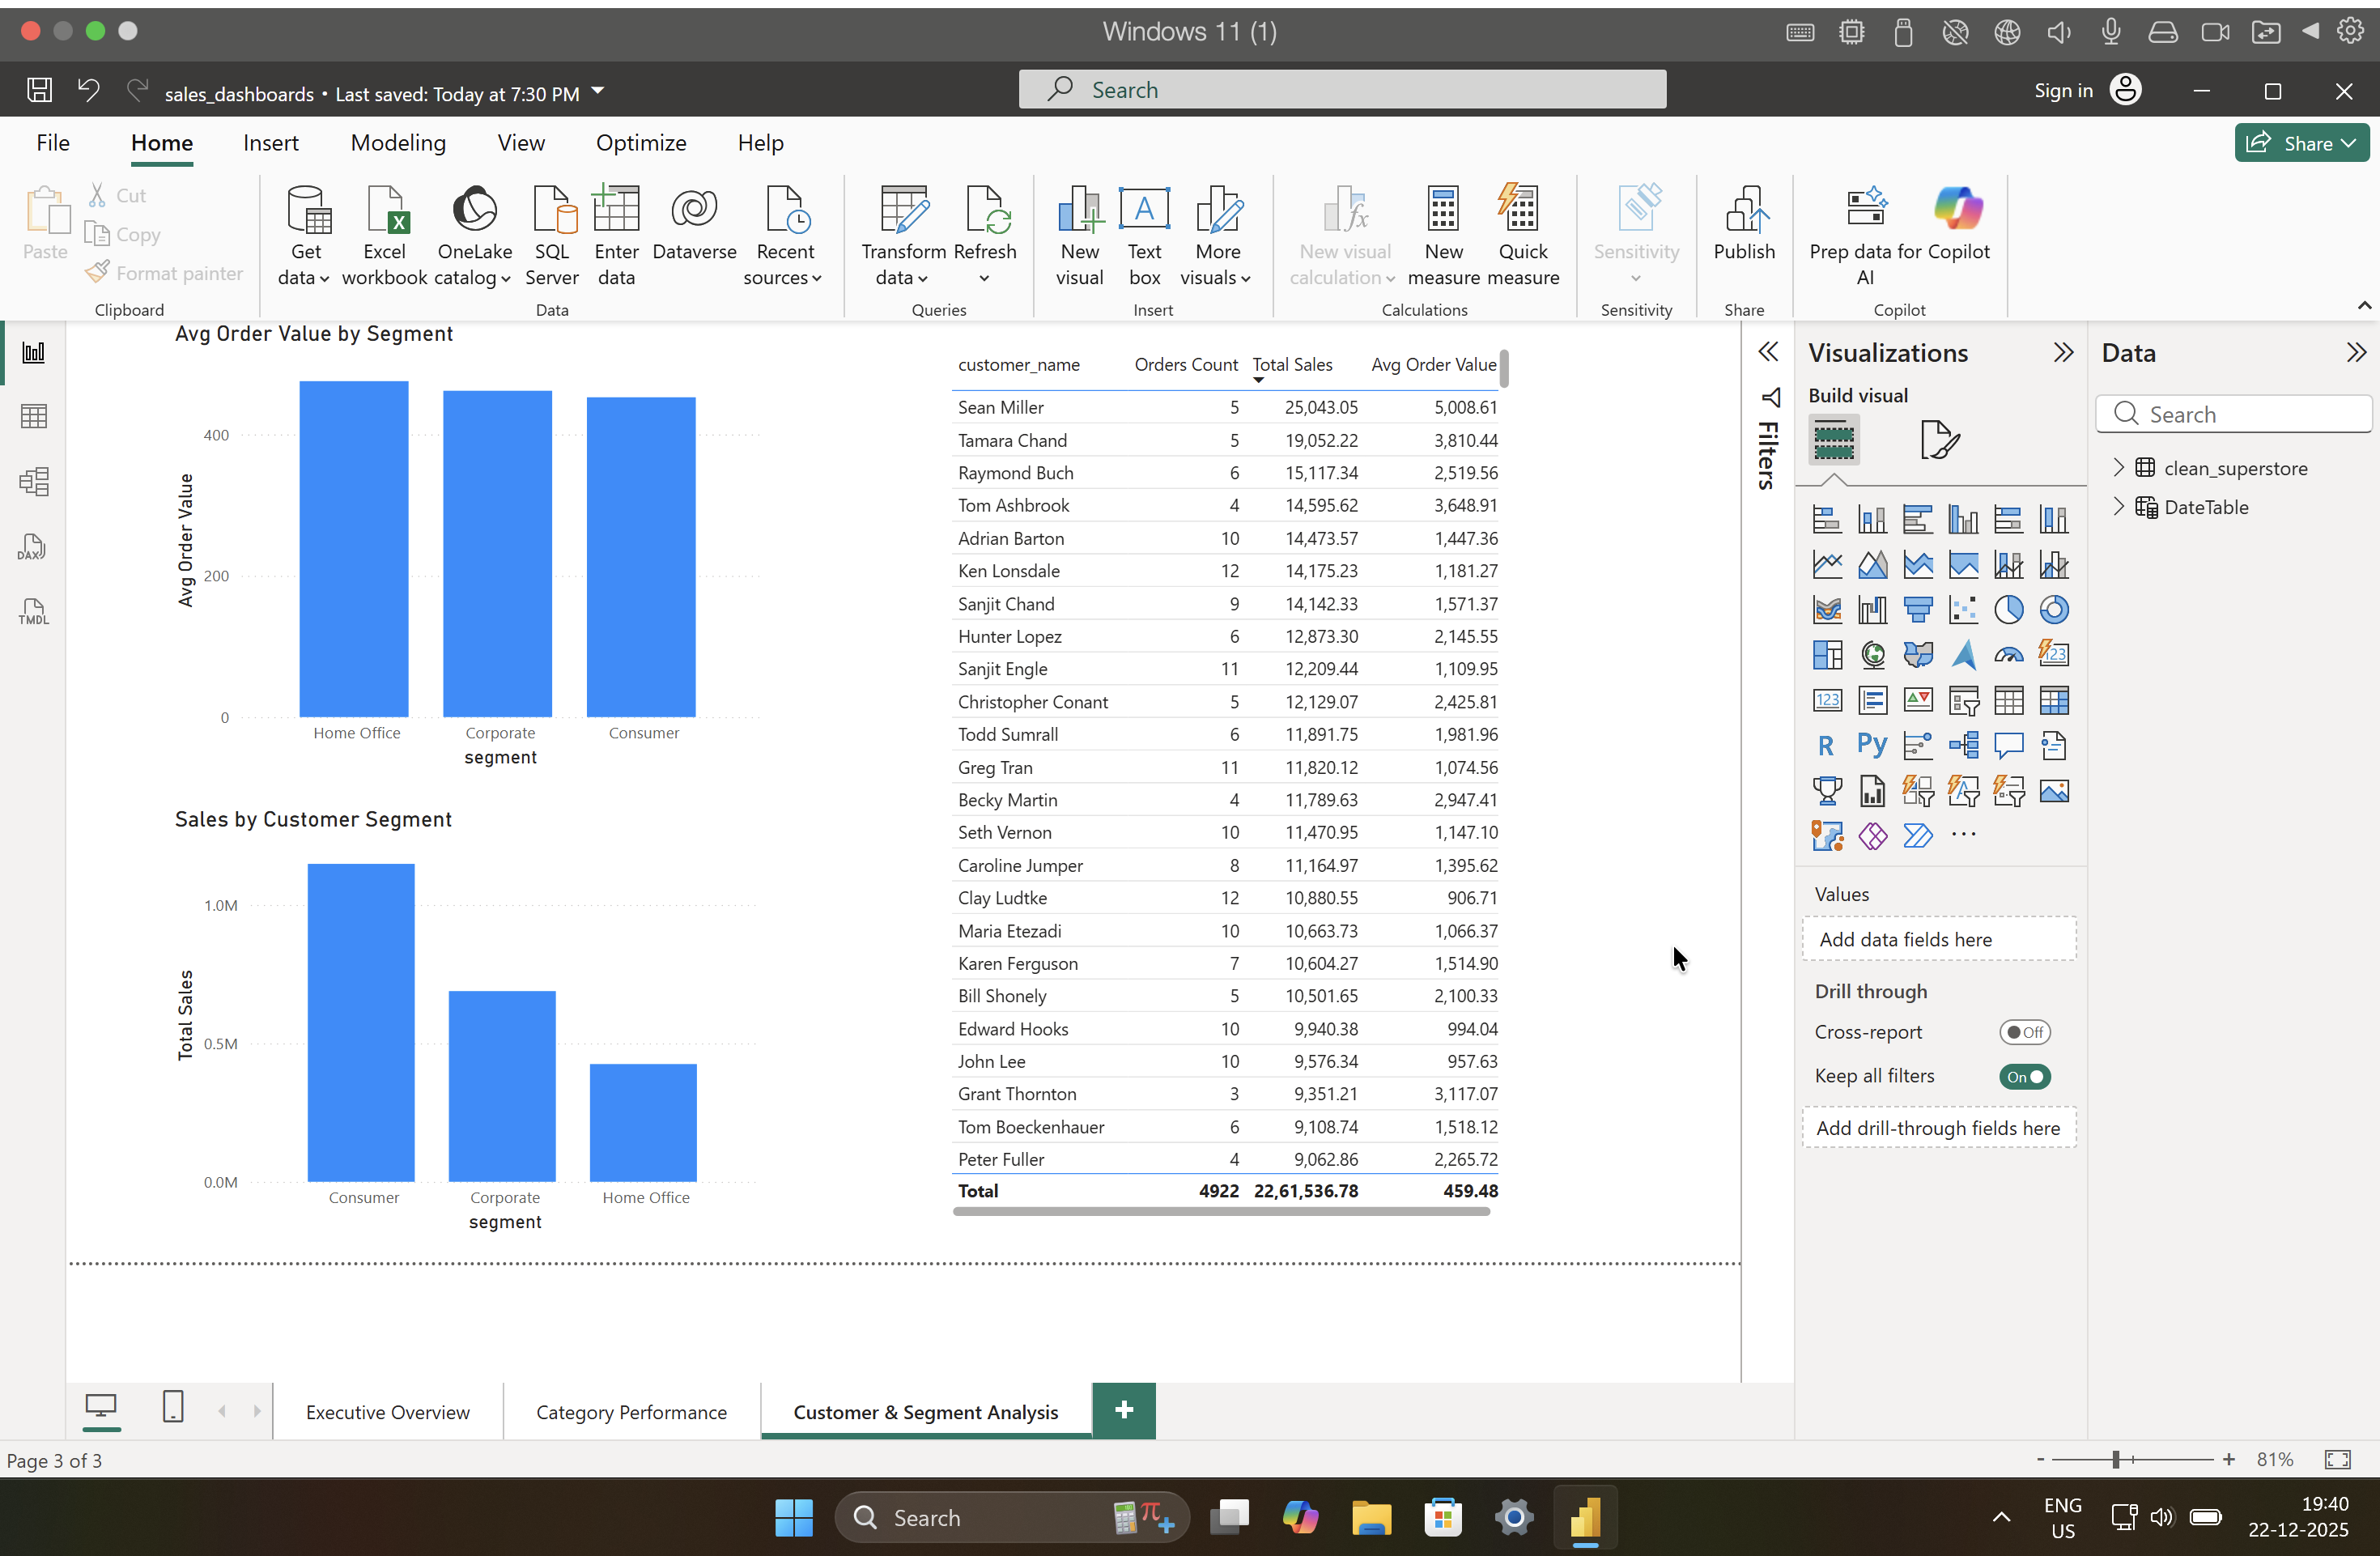

Layout of this report page (visuals, bound fields, positions):
{"tool":"powerbi","page":{"name":"Customer & Segment Analysis","canvas":[1280,720],"ordinal":2},"visuals":[{"type":"clusteredColumnChart","title":"Avg Order Value by Segment","fields":{"Category":["clean_superstore.segment"],"Y":["clean_superstore.Avg Order Value"]},"box":[78,0,456.8,346.6],"z":0},{"type":"clusteredColumnChart","title":"Sales by Customer Segment","fields":{"Category":["clean_superstore.segment"],"Y":["clean_superstore.Total Sales"]},"box":[78,371.4,456.8,330.5],"z":1000},{"type":"tableEx","fields":{"Values":["clean_superstore.customer_name","clean_superstore.Orders Count","clean_superstore.Total Sales","clean_superstore.Avg Order Value"]},"box":[670.9,16.1,438.2,674.7],"z":2000}]}

Visuals, with their boxes on the page's 1280x720 design canvas (x1, y1, x2, y2). These are canvas units, not pixel positions in the 2380x1556 screenshot, which may show the page scaled, cropped or inside an application window:
"Avg Order Value by Segment" clusteredColumnChart: 78 0 535 347
"Sales by Customer Segment" clusteredColumnChart: 78 371 535 702
tableEx - clean_superstore.customer_name x clean_superstore.Orders Count: 671 16 1109 691
